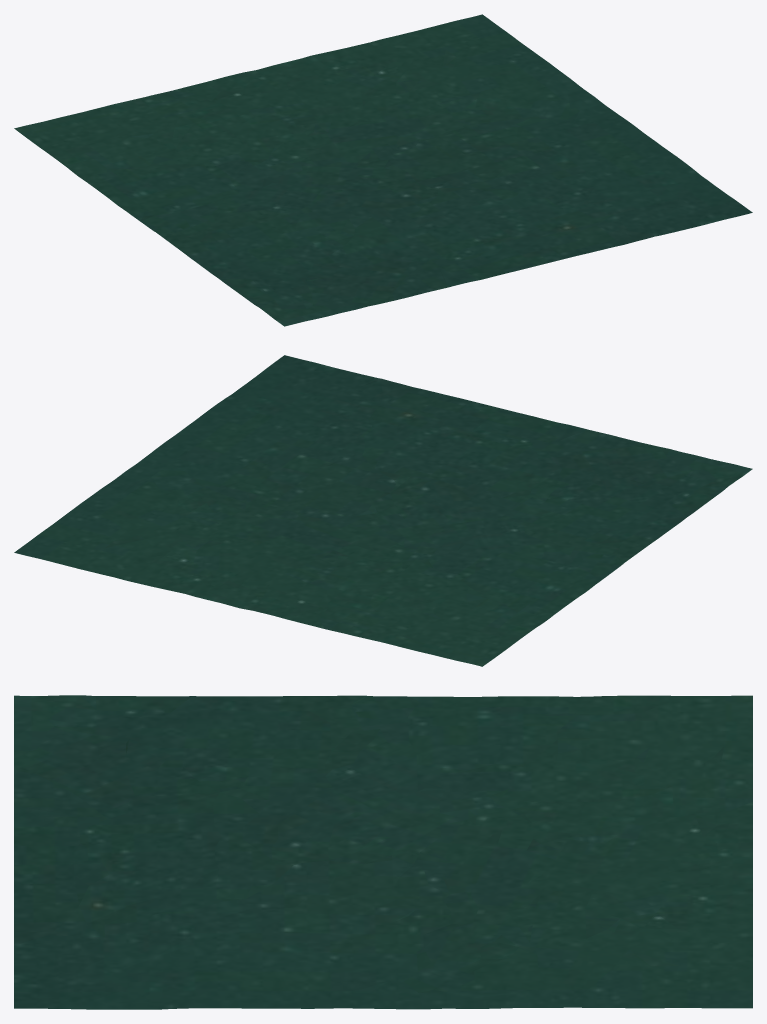
The picture shows the model from 3 angles, top to bottom: view 1: azimuth 30°, elevation 25°; view 2: azimuth 150°, elevation 25°; view 3: azimuth 270°, elevation 25°; orthographic projection. The views are drawn at different scales.
Size of the model in its own units: 104 by 0.6533 by 104.
2 materials, 2 textured.
